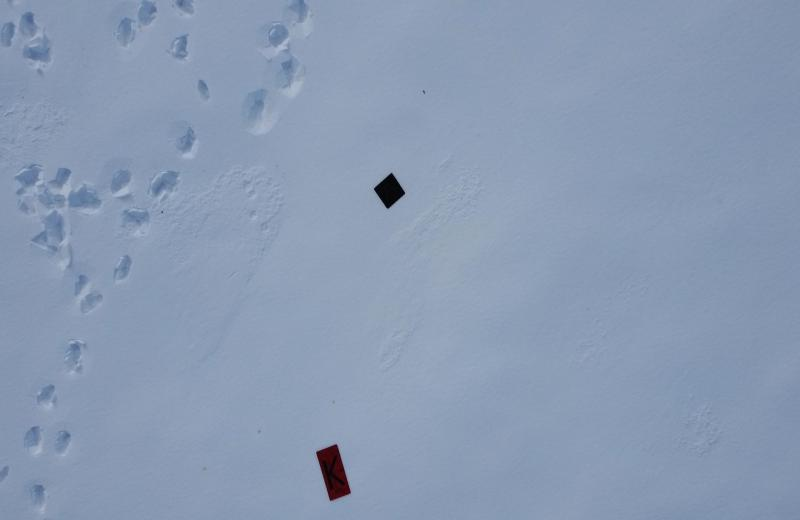Rectangle: (314, 444, 352, 502)
Square: (373, 170, 406, 209)
